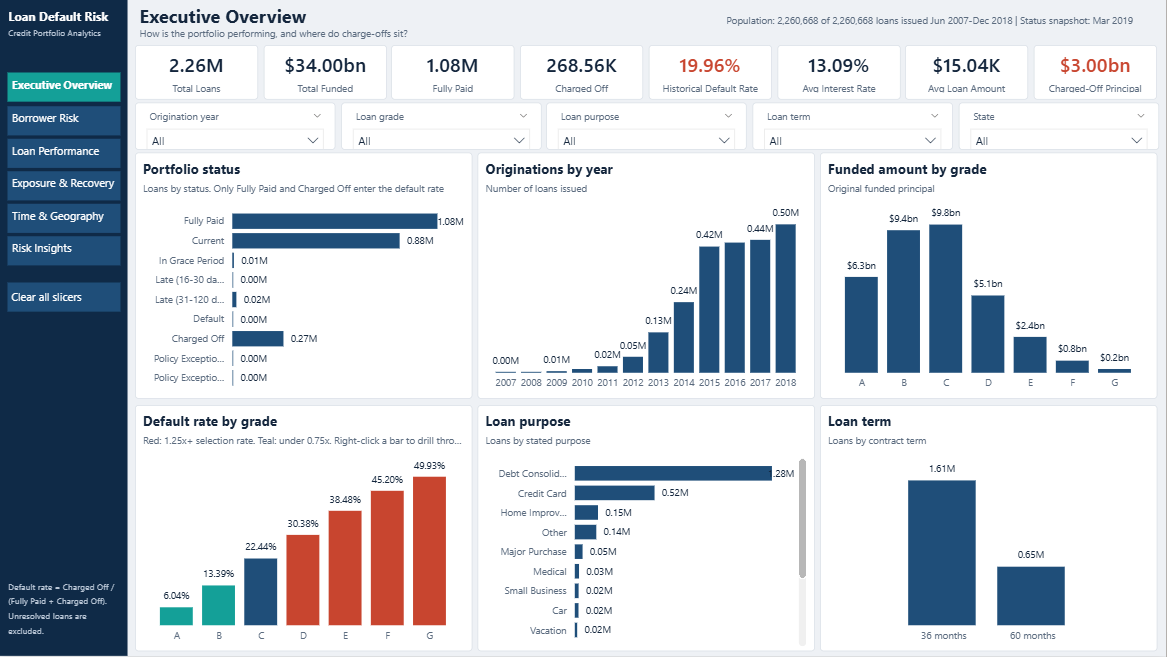

This screenshot's page, from the dashboard's own definition file:
{"tool":"powerbi","page":{"name":"Executive Overview","canvas":[1280,720],"ordinal":0},"visuals":[{"type":"textbox","box":[0,0,140,720],"z":0},{"type":"textbox","box":[4,4,134,72],"z":1000},{"type":"textbox","box":[8,80,124,32],"z":2000},{"type":"actionButton","box":[8,80,124,32],"z":3000},{"type":"textbox","box":[8,116,124,32],"z":4000},{"type":"actionButton","box":[8,116,124,32],"z":5000},{"type":"textbox","box":[8,152,124,32],"z":6000},{"type":"actionButton","box":[8,152,124,32],"z":7000},{"type":"textbox","box":[8,188,124,32],"z":8000},{"type":"actionButton","box":[8,188,124,32],"z":9000},{"type":"textbox","box":[8,224,124,32],"z":10000},{"type":"actionButton","box":[8,224,124,32],"z":11000},{"type":"textbox","box":[8,260,124,32],"z":12000},{"type":"actionButton","box":[8,260,124,32],"z":13000},{"type":"textbox","box":[8,310,124,32],"z":14000},{"type":"actionButton","box":[8,310,124,32],"z":15000},{"type":"textbox","box":[4,630,134,86],"z":16000},{"type":"textbox","box":[148,-2,620,40],"z":17000},{"type":"textbox","box":[148,24,720,26],"z":18000},{"type":"card","fields":{"Values":["fact_loans.Scope Label"]},"box":[770,6,502,40],"z":19000},{"type":"card","fields":{"Values":["fact_loans.Total Loans"]},"box":[148,50,135,60],"z":20000},{"type":"card","fields":{"Values":["fact_loans.Total Funded Amount"]},"box":[289,50,135,60],"z":21000},{"type":"card","fields":{"Values":["fact_loans.Fully Paid Loans"]},"box":[430,50,135,60],"z":22000},{"type":"card","fields":{"Values":["fact_loans.Charged-Off Loans"]},"box":[571,50,135,60],"z":23000},{"type":"card","fields":{"Values":["fact_loans.Historical Default Rate"]},"box":[712,50,135,60],"z":24000},{"type":"card","fields":{"Values":["fact_loans.Average Interest Rate"]},"box":[853,50,135,60],"z":25000},{"type":"card","fields":{"Values":["fact_loans.Average Loan Amount"]},"box":[994,50,135,60],"z":26000},{"type":"card","fields":{"Values":["fact_loans.Charged-Off Principal Exposure"]},"box":[1135,50,135,60],"z":27000},{"type":"slicer","fields":{"Values":["dim_date.issue_year"]},"box":[148,112,220,52],"z":28000},{"type":"slicer","fields":{"Values":["dim_grade.grade"]},"box":[374,112,220,52],"z":29000},{"type":"slicer","fields":{"Values":["dim_purpose.purpose_label"]},"box":[600,112,220,52],"z":30000},{"type":"slicer","fields":{"Values":["dim_term.term_label"]},"box":[826,112,220,52],"z":31000},{"type":"slicer","fields":{"Values":["dim_state.state_name"]},"box":[1052,112,220,52],"z":32000},{"type":"clusteredBarChart","title":"Portfolio status","fields":{"Category":["dim_status.status_clean"],"Y":["fact_loans.Total Loans"]},"box":[148,168,370,270],"z":33000},{"type":"clusteredColumnChart","title":"Originations by year","fields":{"Category":["dim_date.issue_year"],"Y":["fact_loans.Loan Origination Count"]},"box":[524,168,370,270],"z":34000},{"type":"clusteredColumnChart","title":"Funded amount by grade","fields":{"Category":["dim_grade.grade"],"Y":["fact_loans.Total Funded Amount"]},"box":[900,168,370,270],"z":35000},{"type":"clusteredColumnChart","title":"Default rate by grade","fields":{"Category":["dim_grade.grade"],"Y":["fact_loans.Historical Default Rate"]},"box":[148,444,370,270],"z":36000},{"type":"clusteredBarChart","title":"Loan purpose","fields":{"Category":["dim_purpose.purpose_label"],"Y":["fact_loans.Total Loans"]},"box":[524,444,370,270],"z":37000},{"type":"clusteredColumnChart","title":"Loan term","fields":{"Category":["dim_term.term_label"],"Y":["fact_loans.Total Loans"]},"box":[900,444,370,270],"z":38000}]}

Visuals, with their boxes on the page's 1280x720 design canvas (x1, y1, x2, y2). These are canvas units, not pixel positions in the 1167x657 screenshot, which may show the page scaled, cropped or inside an application window:
textbox: [x1=0, y1=0, x2=140, y2=720]
textbox: [x1=4, y1=4, x2=138, y2=76]
textbox: [x1=8, y1=80, x2=132, y2=112]
actionButton: [x1=8, y1=80, x2=132, y2=112]
textbox: [x1=8, y1=116, x2=132, y2=148]
actionButton: [x1=8, y1=116, x2=132, y2=148]
textbox: [x1=8, y1=152, x2=132, y2=184]
actionButton: [x1=8, y1=152, x2=132, y2=184]
textbox: [x1=8, y1=188, x2=132, y2=220]
actionButton: [x1=8, y1=188, x2=132, y2=220]
textbox: [x1=8, y1=224, x2=132, y2=256]
actionButton: [x1=8, y1=224, x2=132, y2=256]
textbox: [x1=8, y1=260, x2=132, y2=292]
actionButton: [x1=8, y1=260, x2=132, y2=292]
textbox: [x1=8, y1=310, x2=132, y2=342]
actionButton: [x1=8, y1=310, x2=132, y2=342]
textbox: [x1=4, y1=630, x2=138, y2=716]
textbox: [x1=148, y1=-2, x2=768, y2=38]
textbox: [x1=148, y1=24, x2=868, y2=50]
card - fact_loans.Scope Label: [x1=770, y1=6, x2=1272, y2=46]
card - fact_loans.Total Loans: [x1=148, y1=50, x2=283, y2=110]
card - fact_loans.Total Funded Amount: [x1=289, y1=50, x2=424, y2=110]
card - fact_loans.Fully Paid Loans: [x1=430, y1=50, x2=565, y2=110]
card - fact_loans.Charged-Off Loans: [x1=571, y1=50, x2=706, y2=110]
card - fact_loans.Historical Default Rate: [x1=712, y1=50, x2=847, y2=110]
card - fact_loans.Average Interest Rate: [x1=853, y1=50, x2=988, y2=110]
card - fact_loans.Average Loan Amount: [x1=994, y1=50, x2=1129, y2=110]
card - fact_loans.Charged-Off Principal Exposure: [x1=1135, y1=50, x2=1270, y2=110]
slicer - dim_date.issue_year: [x1=148, y1=112, x2=368, y2=164]
slicer - dim_grade.grade: [x1=374, y1=112, x2=594, y2=164]
slicer - dim_purpose.purpose_label: [x1=600, y1=112, x2=820, y2=164]
slicer - dim_term.term_label: [x1=826, y1=112, x2=1046, y2=164]
slicer - dim_state.state_name: [x1=1052, y1=112, x2=1272, y2=164]
"Portfolio status" clusteredBarChart: [x1=148, y1=168, x2=518, y2=438]
"Originations by year" clusteredColumnChart: [x1=524, y1=168, x2=894, y2=438]
"Funded amount by grade" clusteredColumnChart: [x1=900, y1=168, x2=1270, y2=438]
"Default rate by grade" clusteredColumnChart: [x1=148, y1=444, x2=518, y2=714]
"Loan purpose" clusteredBarChart: [x1=524, y1=444, x2=894, y2=714]
"Loan term" clusteredColumnChart: [x1=900, y1=444, x2=1270, y2=714]
